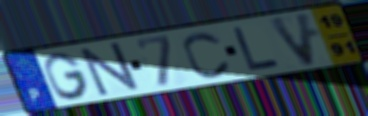7: (134, 33, 177, 89)
C: (181, 30, 233, 79)
G: (42, 51, 92, 102)
L: (229, 25, 283, 73)
N: (77, 41, 143, 99)
V: (265, 10, 320, 70)
